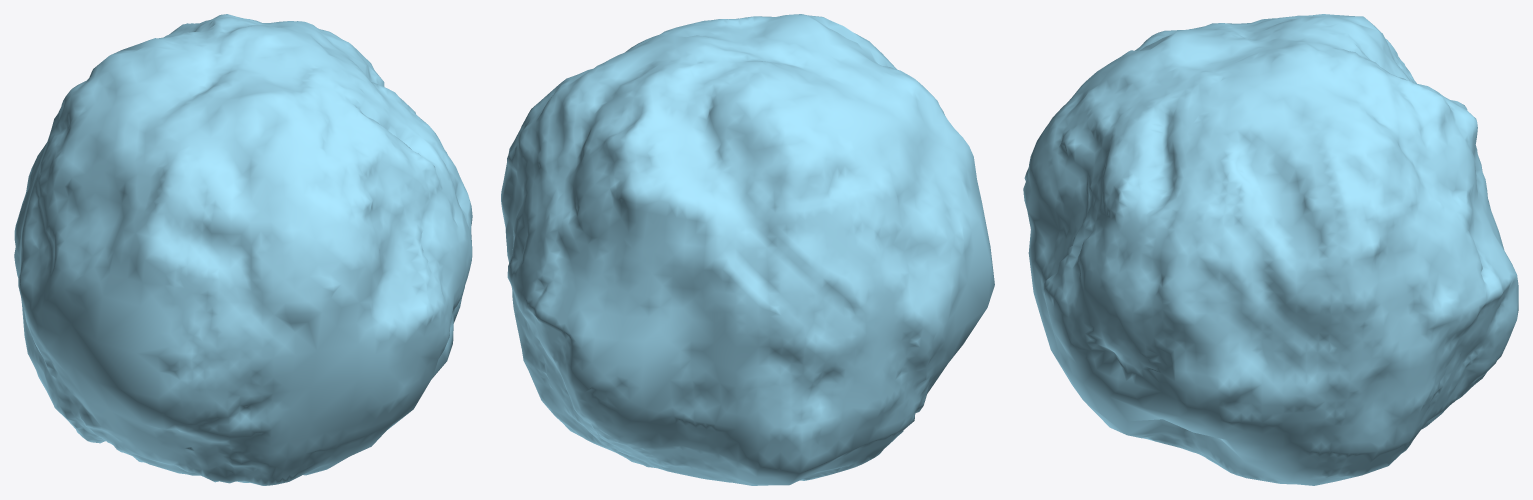
The model's file is IceBall.fbx.
3 renders of one model, left to right at view 1: azimuth 30°, elevation 25°; view 2: azimuth 150°, elevation 25°; view 3: azimuth 270°, elevation 25°, orthographic. The views are drawn at different scales.
Visible parts, largest first — view 1: Sphere; view 2: Sphere; view 3: Sphere.
Part boxes in pixels (<box>): Sphere: <box>14,14,472,485</box>; Sphere: <box>501,14,994,485</box>; Sphere: <box>1023,14,1518,485</box>.
Size of the model in its own units: 200 by 202 by 212.
